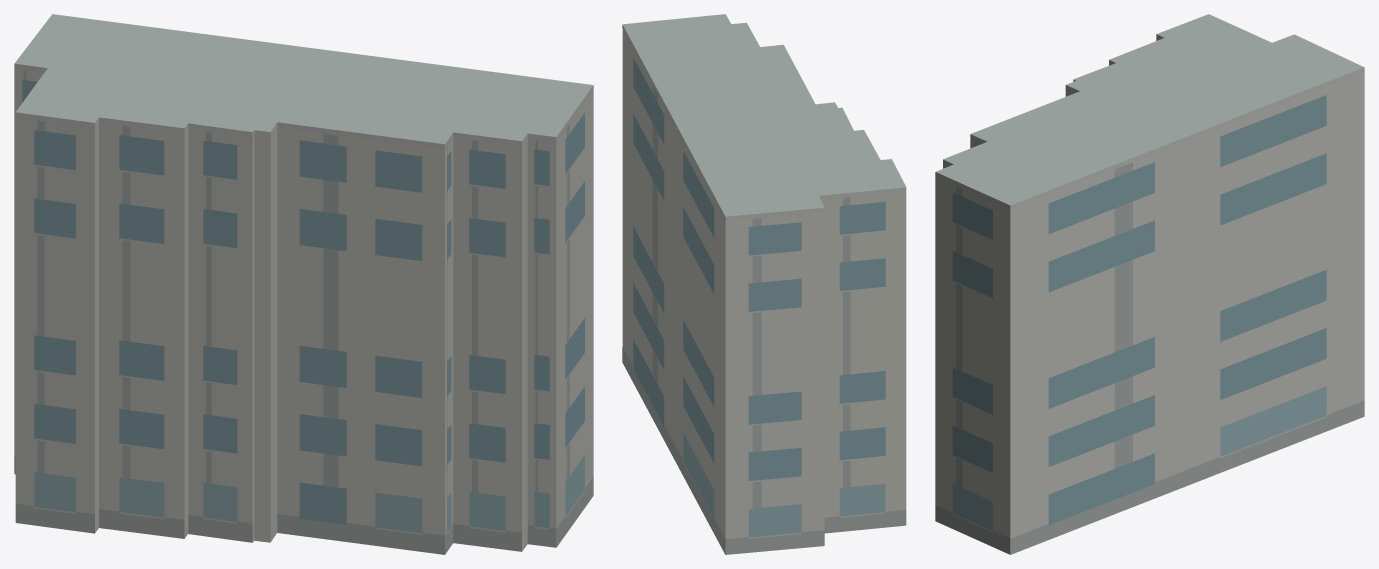
File: survey-upis-32625165.glb
3 renders of one model, left to right at view 1: azimuth 30°, elevation 25°; view 2: azimuth 150°, elevation 25°; view 3: azimuth 270°, elevation 25°, orthographic. The views are drawn at different scales.
Visible parts, largest first — view 1: survey-upis-32625165.tmp; view 2: survey-upis-32625165.tmp; view 3: survey-upis-32625165.tmp.
Boxes of the visible parts, x1,y1,x2,y2 form: survey-upis-32625165.tmp: [14, 14, 593, 554]; survey-upis-32625165.tmp: [622, 14, 906, 554]; survey-upis-32625165.tmp: [935, 14, 1364, 554].
Bounding box in the file's own units: 21.52 × 18.3 × 20.38.
